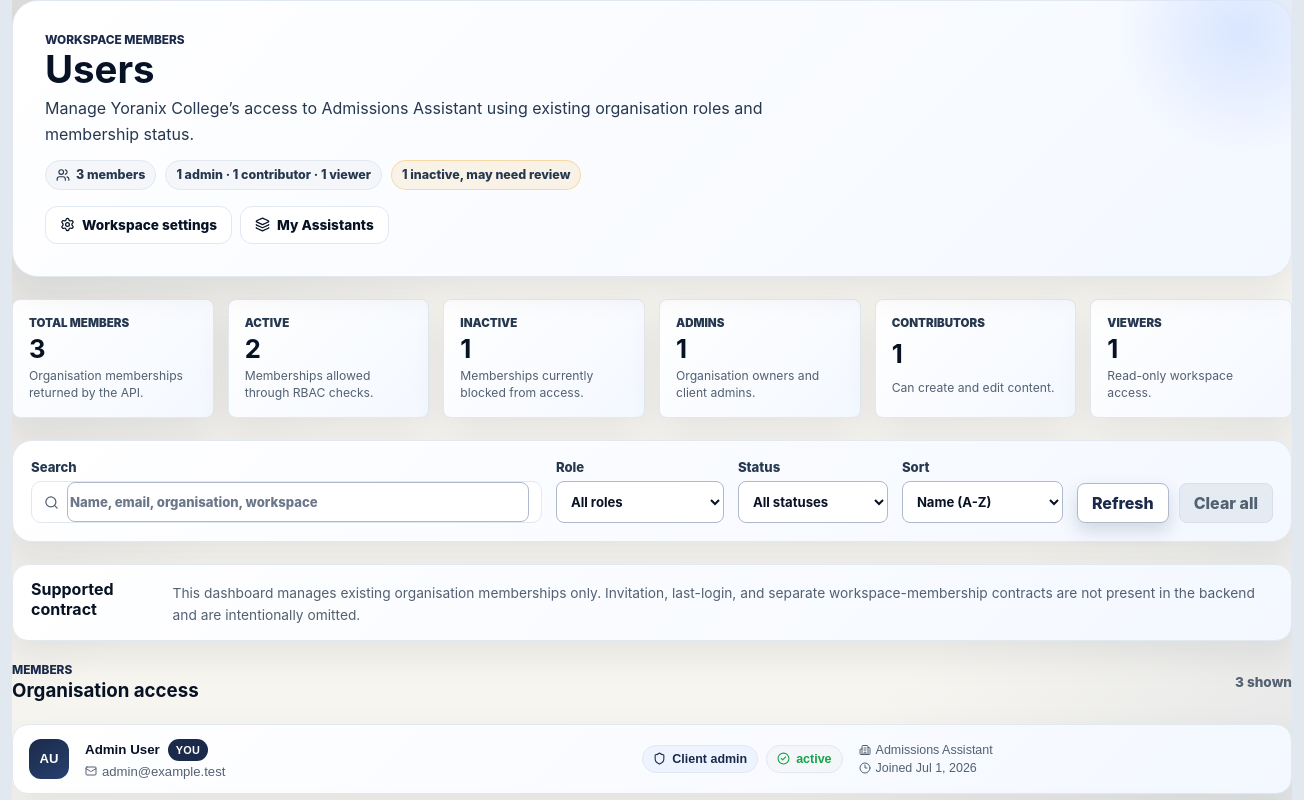
Test: UsersManagementClient › shows a distinct empty state and clear action when filters match nothing
Type "no-such-member" into the field labelled "Search" at {"x": 298, "y": 502}, box 67,482 -> 529,522
(page scrolled)
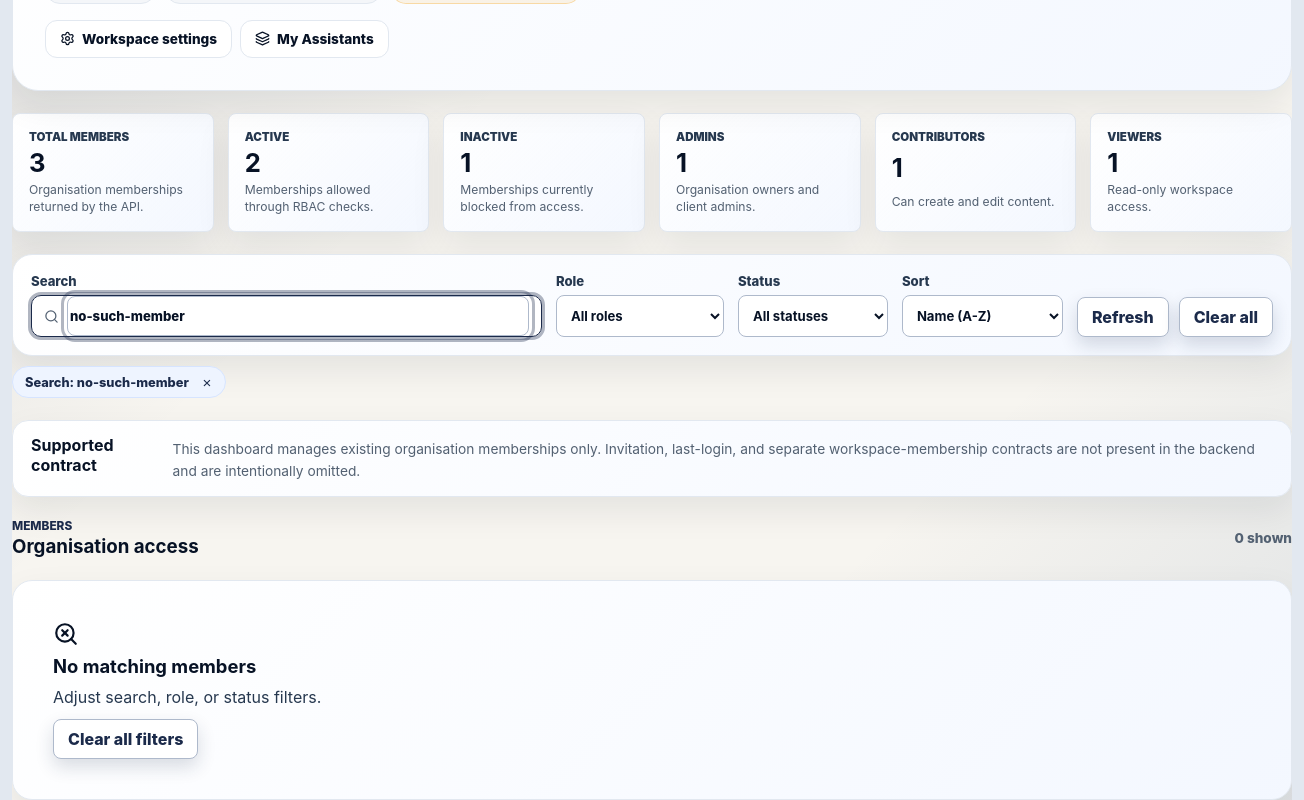
expect the heading "No matching members" is shown: met, box 53,655 -> 256,677
Click the button "Clear all filters" at {"x": 126, "y": 738}, box 53,718 -> 198,758
(page scrolled)
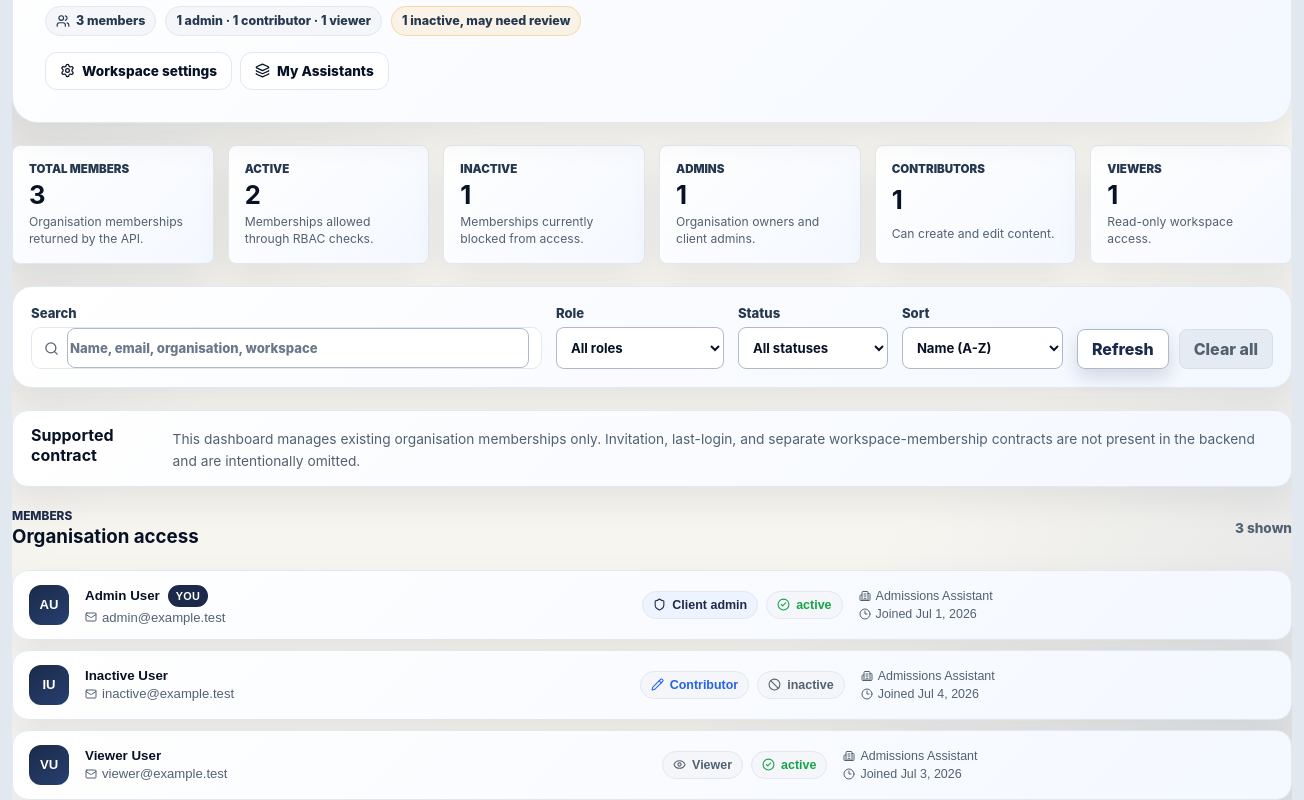
expect the text "viewer@example.test" is shown: met, box 85,766 -> 228,781
